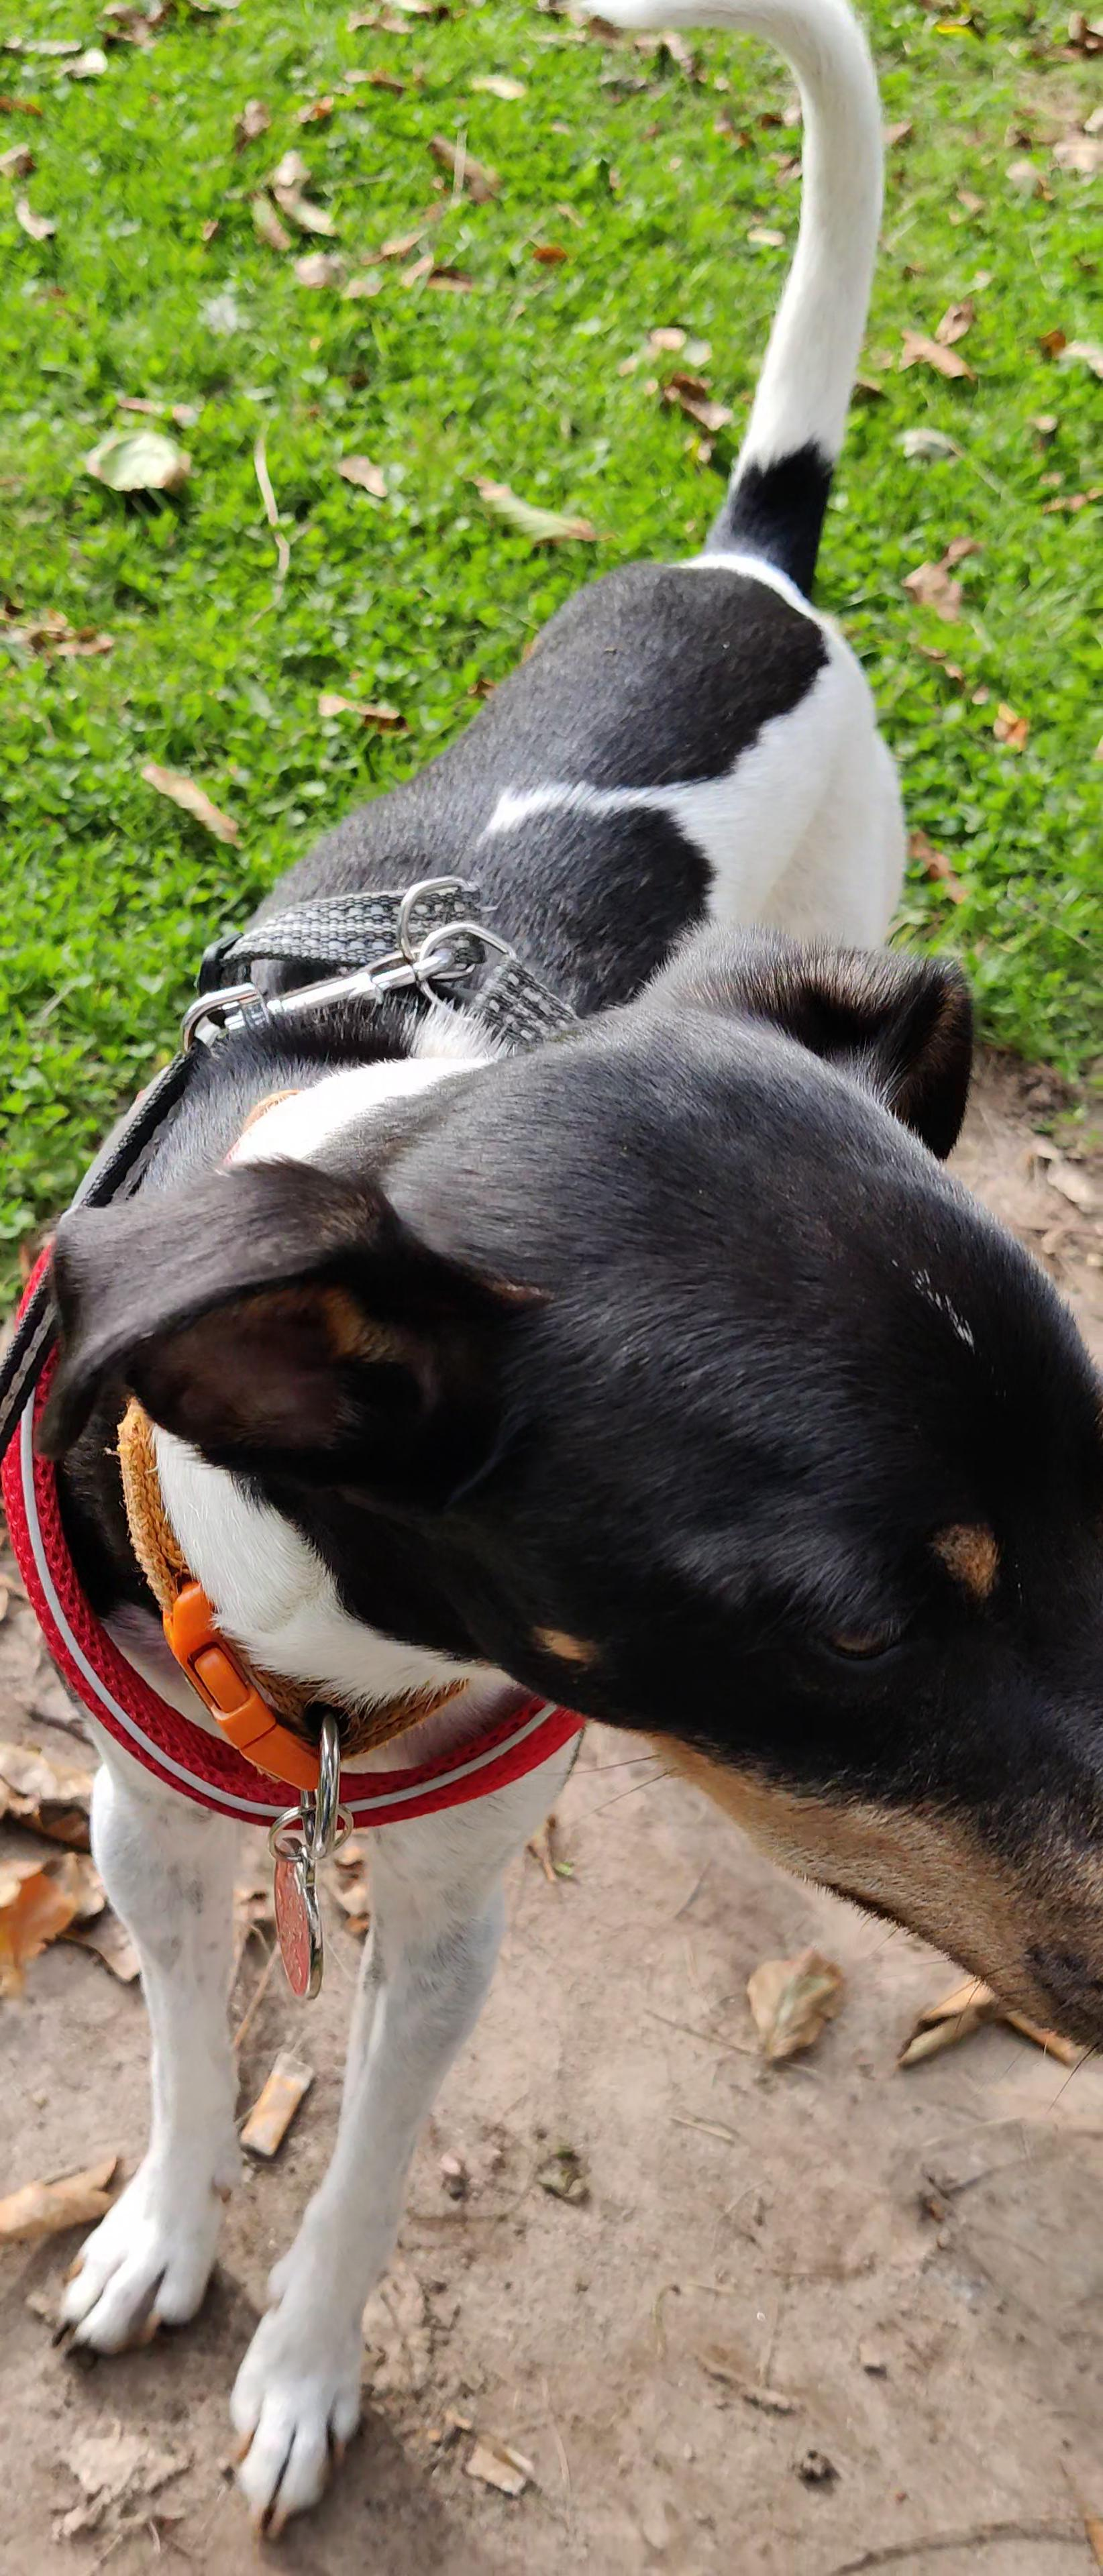Dog: (0, 0, 1103, 2548)
